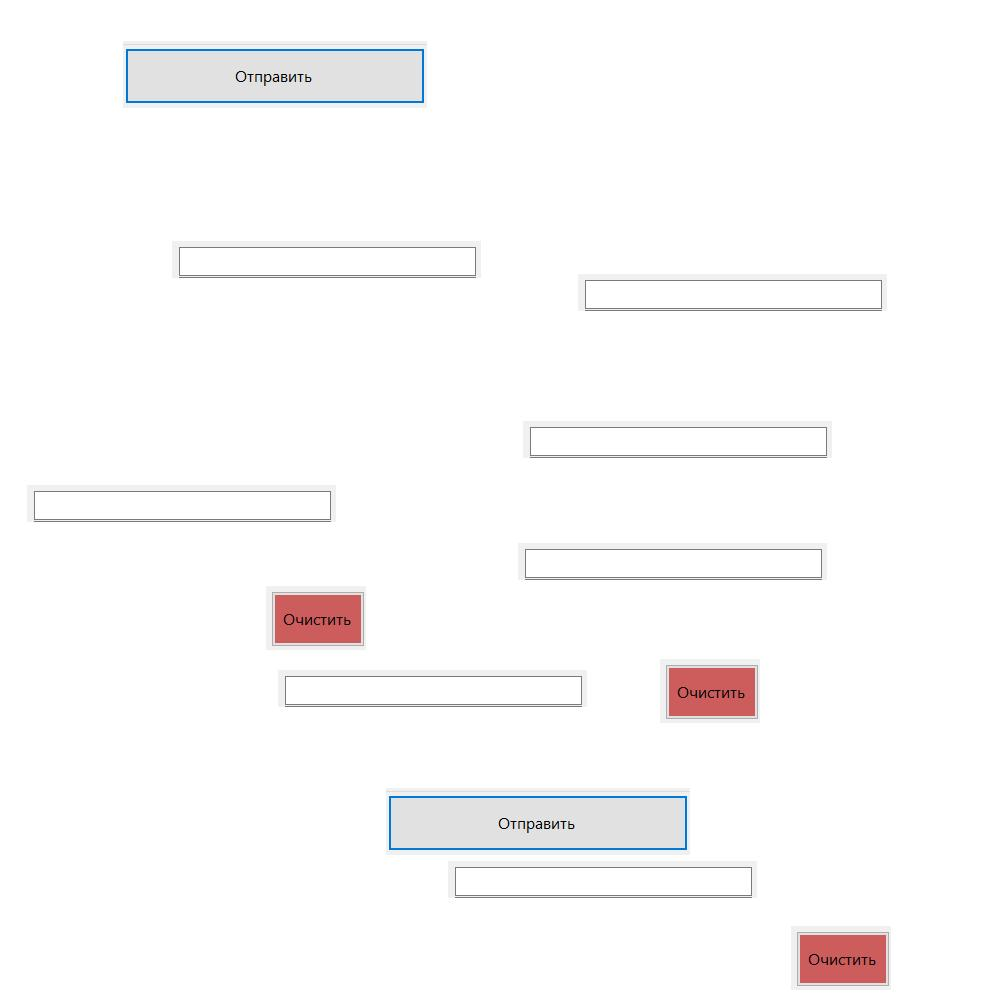Button: (386, 788, 690, 855), (123, 41, 427, 108), (791, 926, 891, 990), (660, 659, 760, 723), (266, 586, 366, 650)
EditText-: (518, 543, 827, 580), (27, 485, 336, 522), (172, 241, 481, 278), (578, 274, 887, 311), (278, 670, 587, 707), (448, 861, 757, 898), (523, 421, 832, 458)
